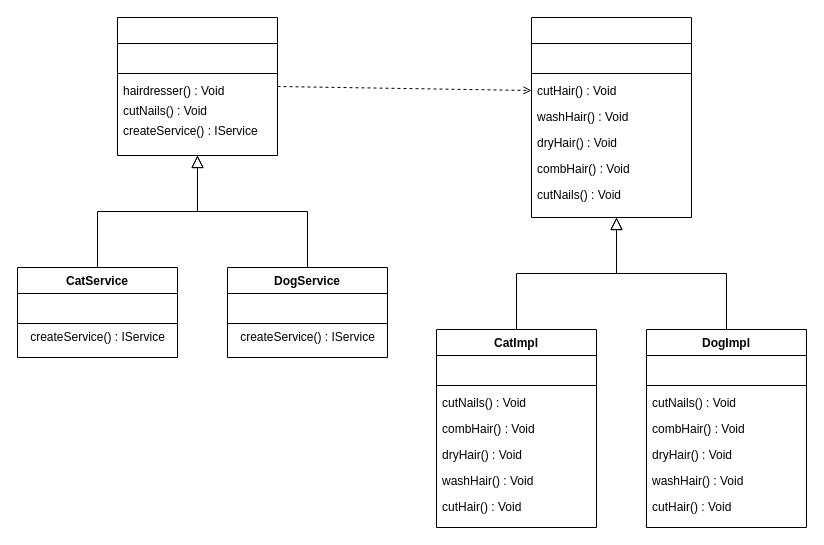
Some shapes in this 824 by 545 pixel diagram are drawn without their labels. The box of each missing label's shape, as (x1, y1, x2, y2) in pixels:
CreatorServiceAbstract: (116, 16, 278, 156)
IService: (530, 16, 692, 218)
